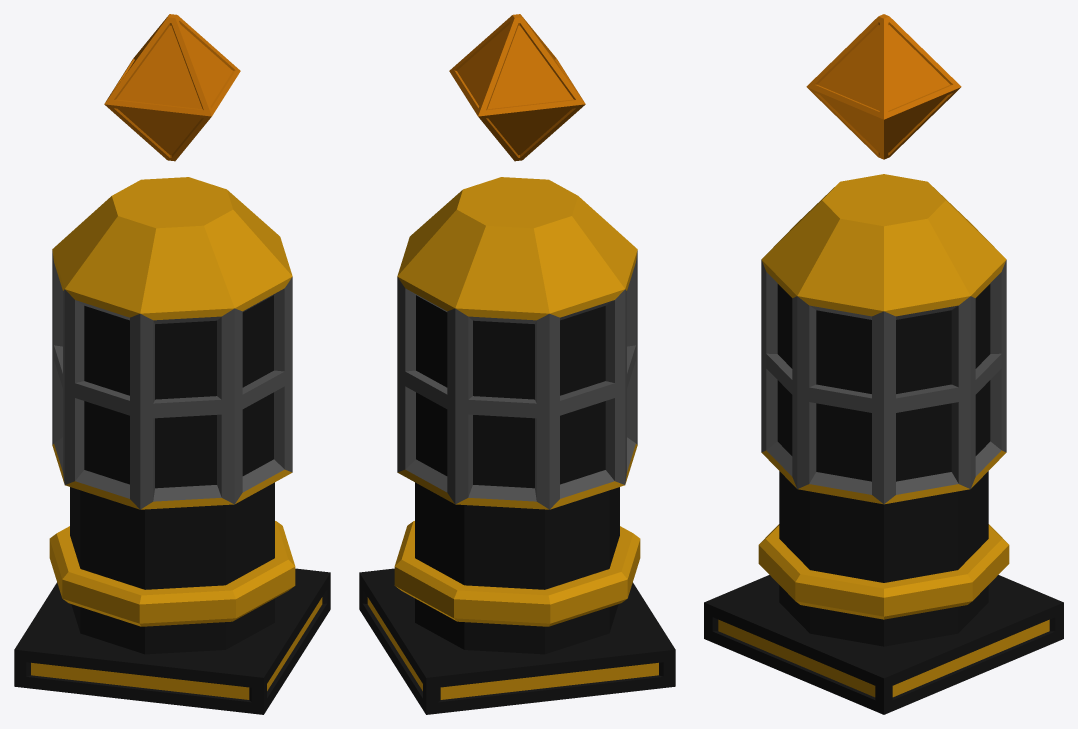
Rendered from HiveTurret.glb.
3 renders of one model, left to right at view 1: azimuth 30°, elevation 25°; view 2: azimuth 150°, elevation 25°; view 3: azimuth 270°, elevation 25°, orthographic.
Visible parts, largest first — view 1: GunHiveTurret1, MiddleHiveTurret1, BaseHiveTurret1, StorageHiveTurret1; view 2: GunHiveTurret1, MiddleHiveTurret1, BaseHiveTurret1, StorageHiveTurret1; view 3: GunHiveTurret1, MiddleHiveTurret1, BaseHiveTurret1, StorageHiveTurret1.
Part boxes in pixels (x1,y1,x2,y2): GunHiveTurret1: (52, 177, 292, 509); MiddleHiveTurret1: (49, 482, 295, 654); BaseHiveTurret1: (14, 568, 330, 714); StorageHiveTurret1: (104, 14, 240, 161); GunHiveTurret1: (397, 177, 637, 509); MiddleHiveTurret1: (394, 482, 640, 654); BaseHiveTurret1: (359, 568, 675, 714); StorageHiveTurret1: (449, 14, 585, 161); GunHiveTurret1: (761, 174, 1006, 504); MiddleHiveTurret1: (758, 471, 1009, 646); BaseHiveTurret1: (704, 575, 1063, 714); StorageHiveTurret1: (806, 14, 961, 159).
Bounding box in the file's own units: 2.26 × 4.32 × 2.26.
